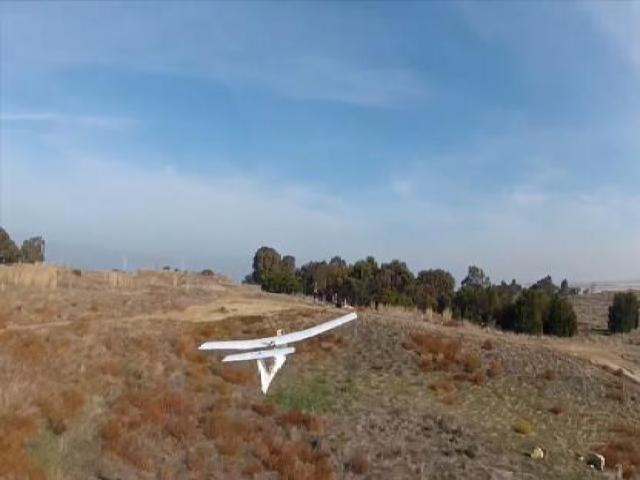uav: (190, 302, 368, 402)
